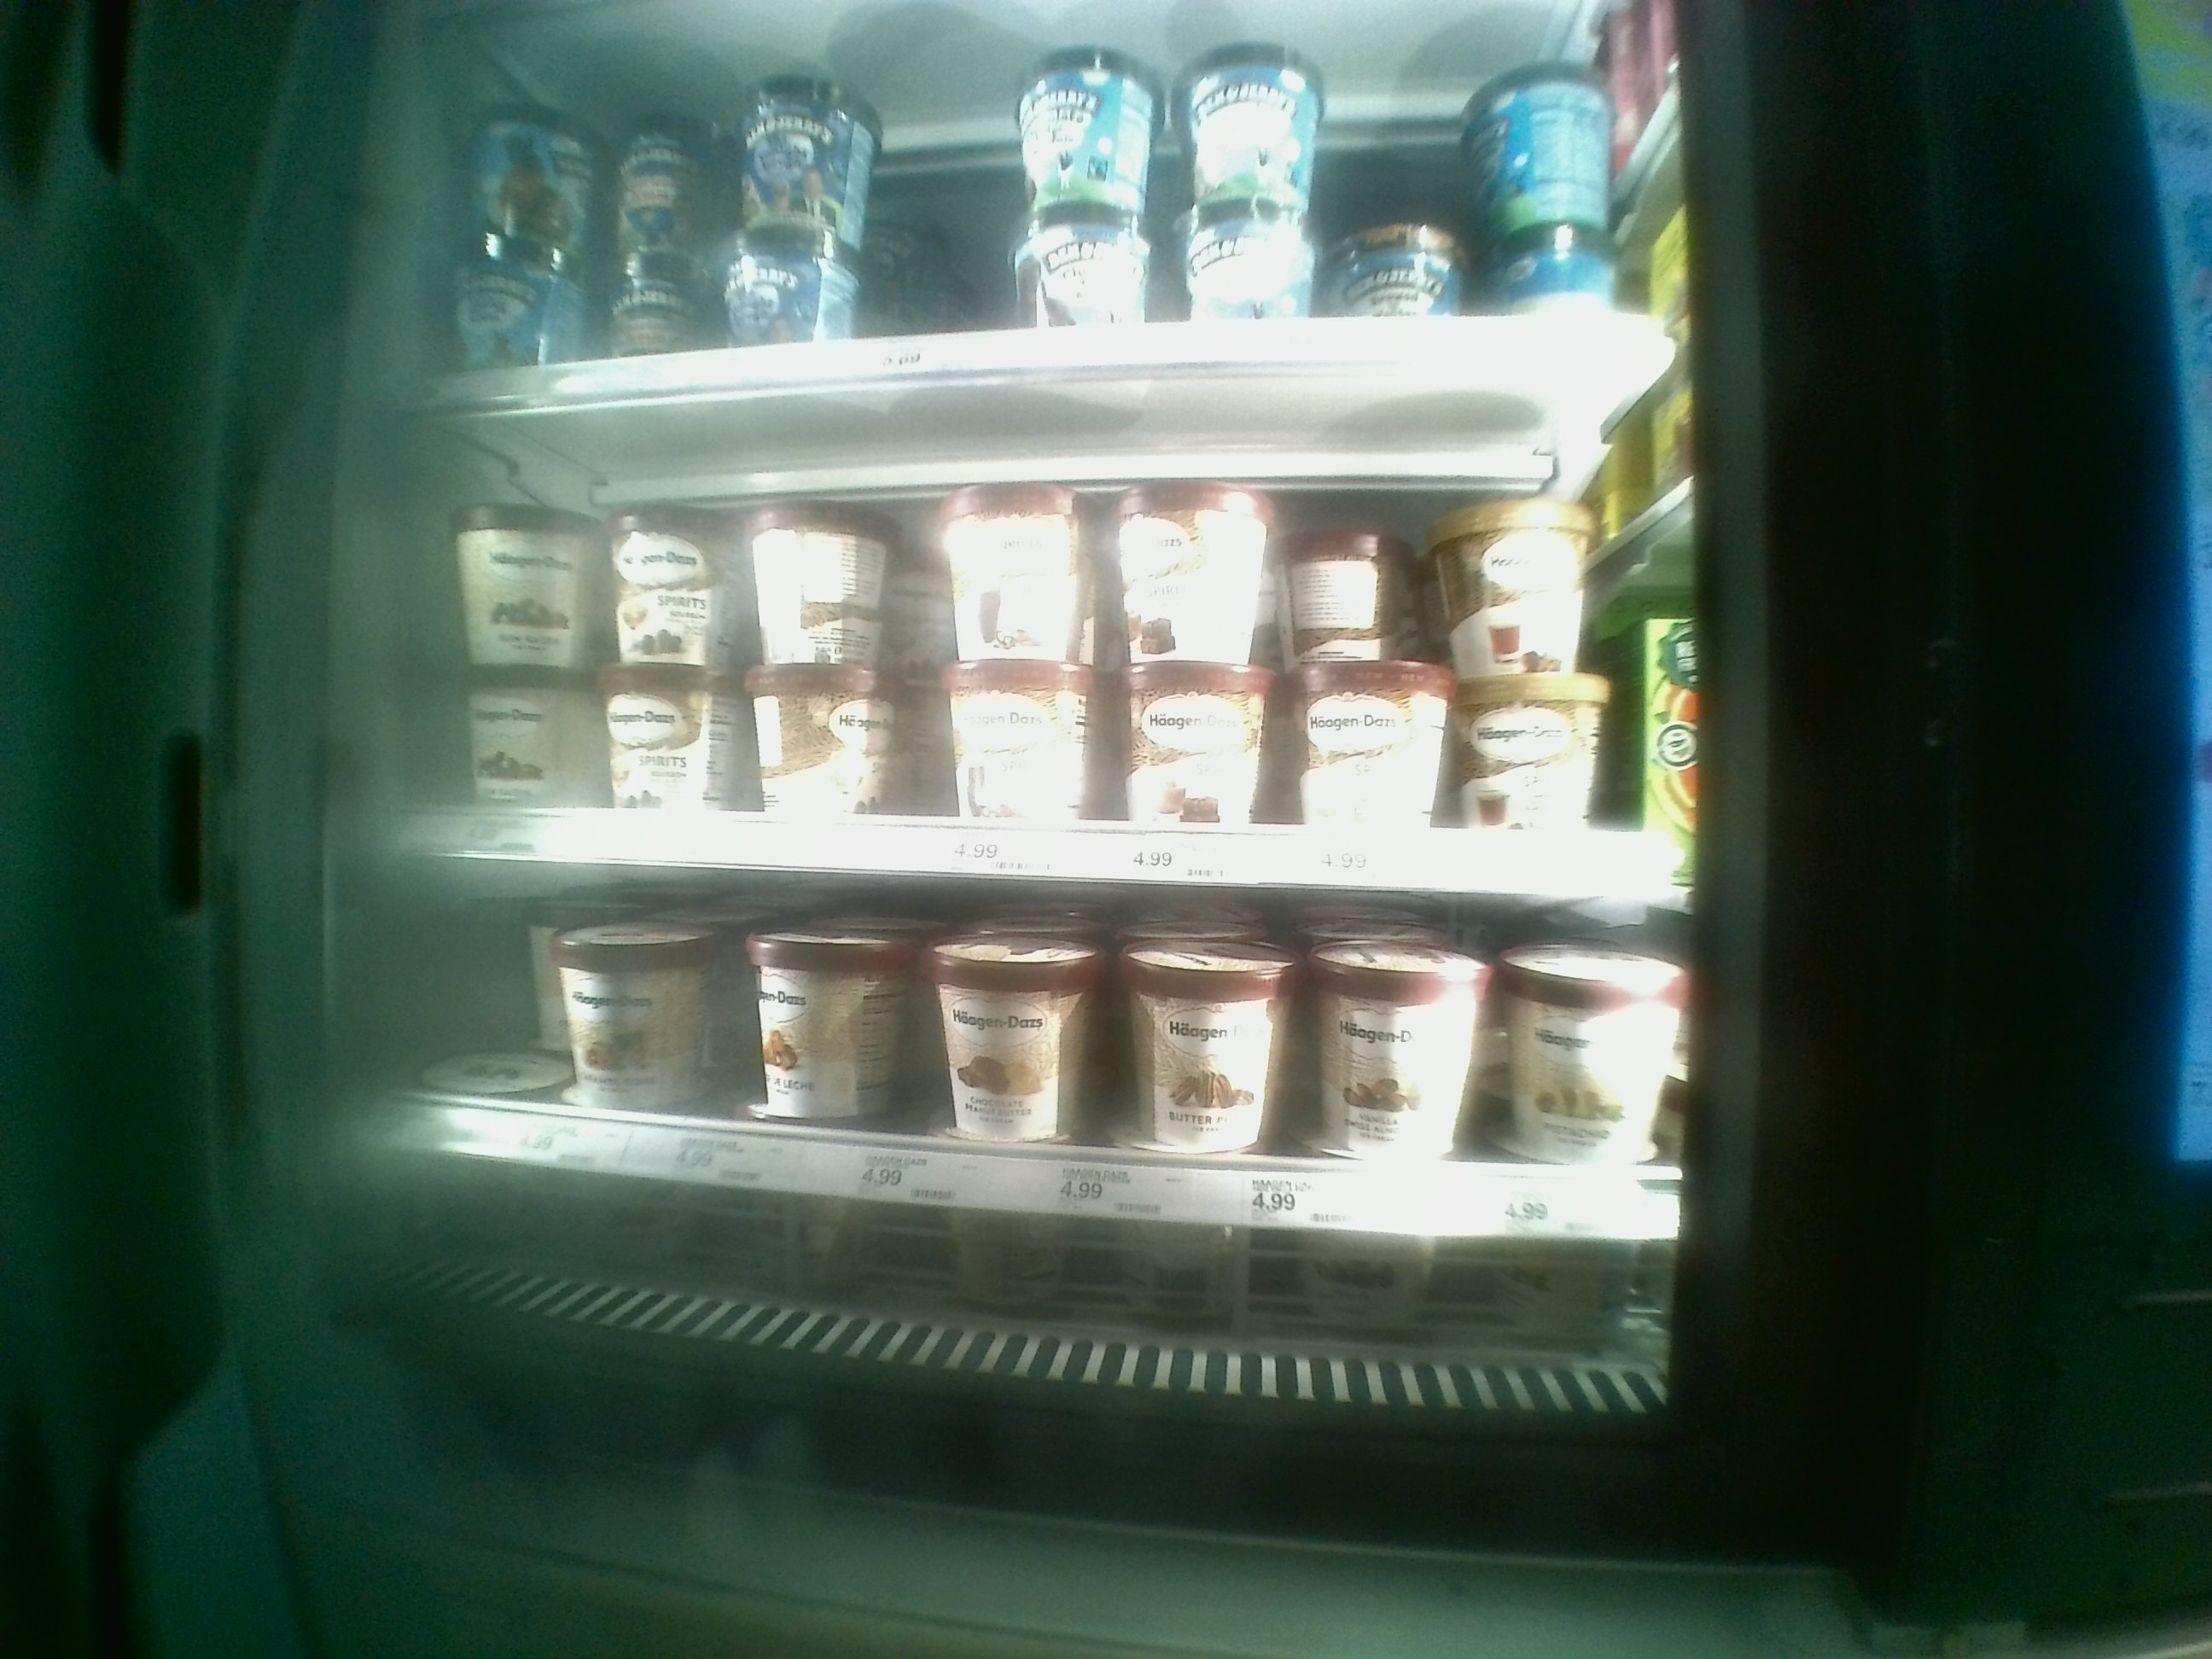shelf: (383, 380, 1686, 892), (399, 863, 1696, 1368)
